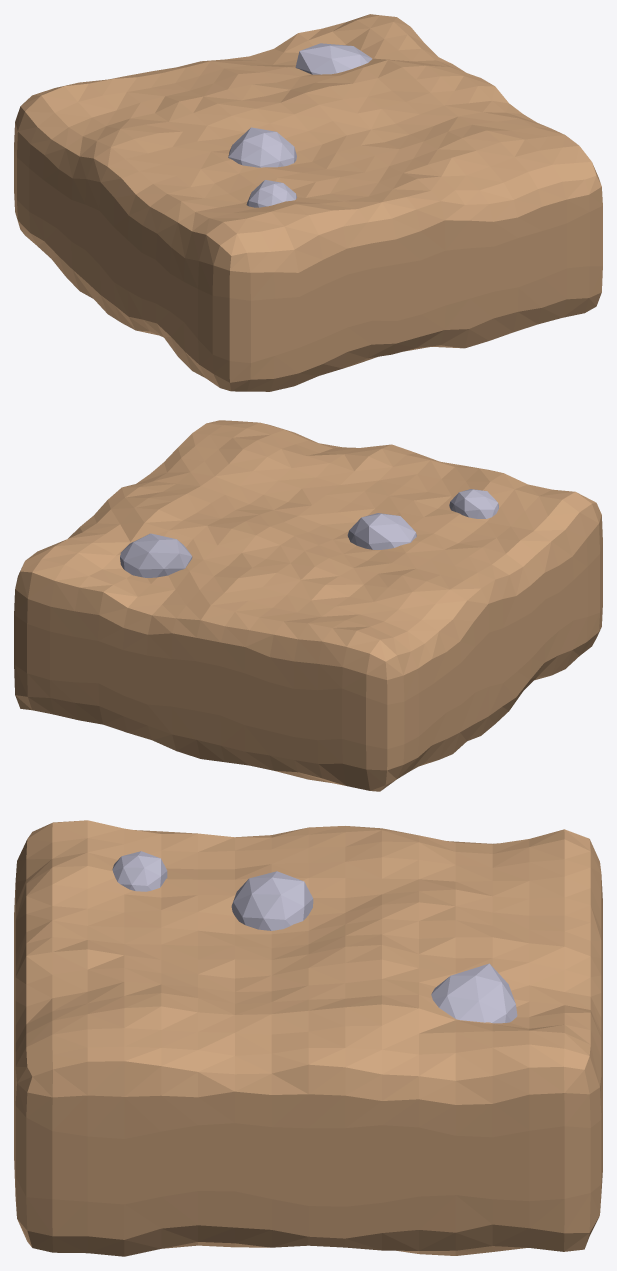
The model's file is dirt3highlighted.fbx.
The picture shows the model from 3 angles, top to bottom: view 1: azimuth 30°, elevation 25°; view 2: azimuth 150°, elevation 25°; view 3: azimuth 270°, elevation 25°; orthographic projection. The views are drawn at different scales.
Visible parts, largest first — view 1: Cube, Icosphere.001, Icosphere, Icosphere.002; view 2: Cube, Icosphere, Icosphere.001, Icosphere.002; view 3: Cube, Icosphere.001, Icosphere, Icosphere.002.
Part boxes in pixels (x1,y1,x2,y2): Cube: (14, 14, 602, 391); Icosphere.001: (228, 127, 296, 167); Icosphere: (295, 43, 371, 74); Icosphere.002: (246, 180, 296, 207); Cube: (14, 420, 602, 791); Icosphere: (120, 533, 192, 577); Icosphere.001: (347, 513, 416, 549); Icosphere.002: (449, 489, 498, 518); Cube: (14, 820, 602, 1256); Icosphere.001: (231, 871, 313, 930); Icosphere: (431, 963, 517, 1023); Icosphere.002: (112, 851, 167, 891).
Size of the model in its own units: 200 by 89.81 by 200.
